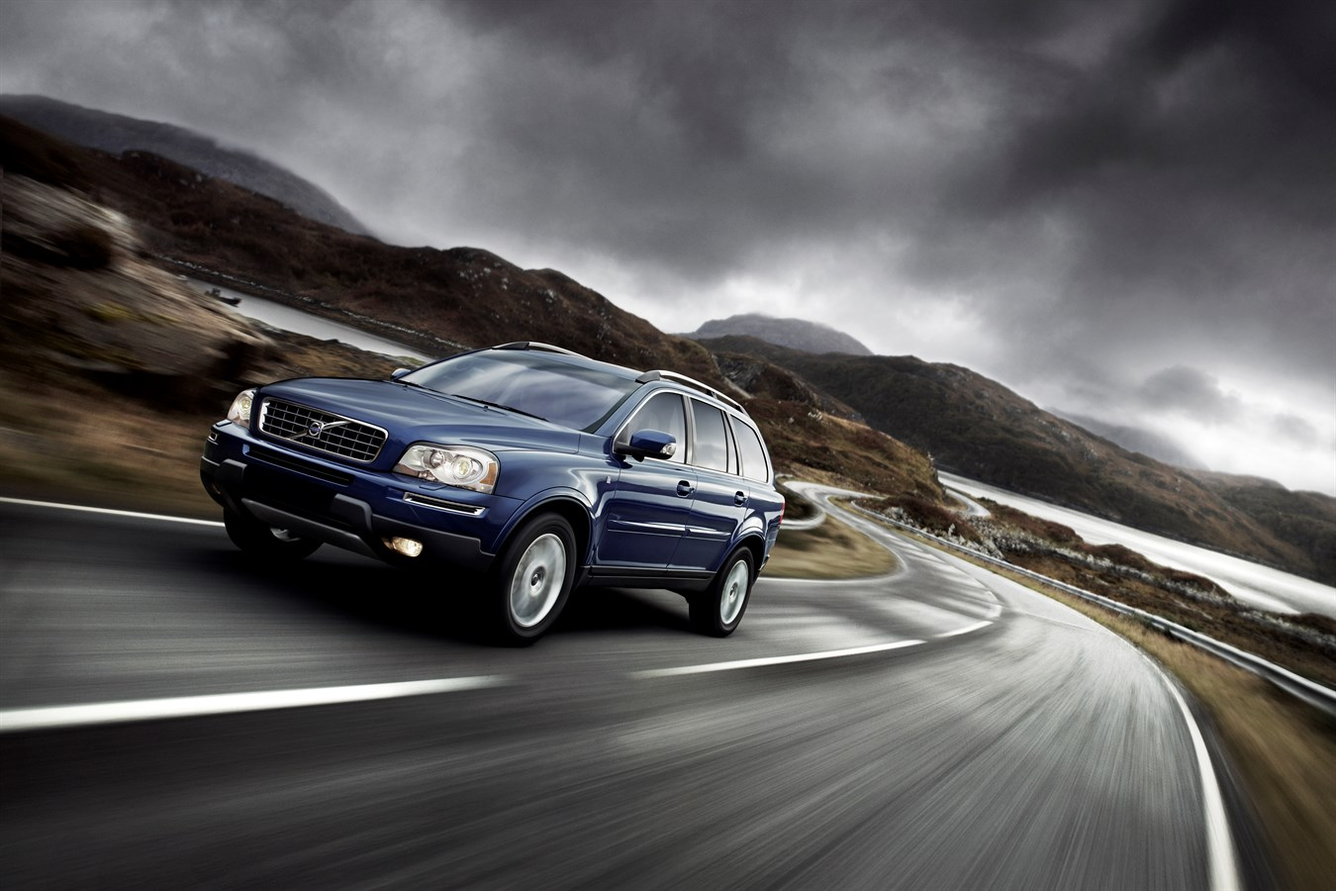other: (206, 314, 785, 656)
